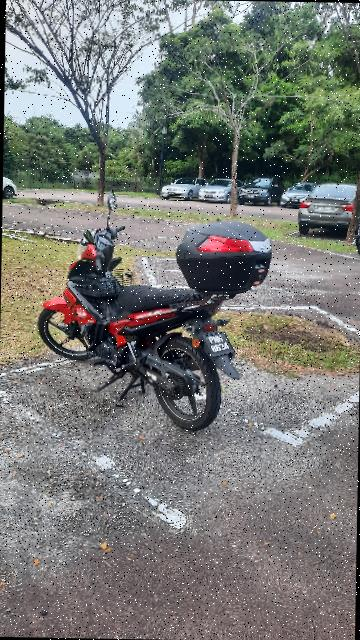License_Plate: (199, 327, 240, 363)
car: (290, 176, 360, 239)
motorcycle: (34, 188, 289, 438)
